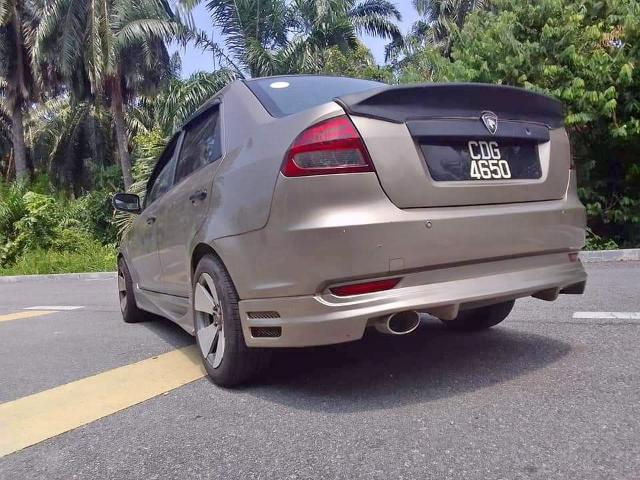License_Plate: (426, 136, 544, 186)
car: (111, 67, 613, 372)
